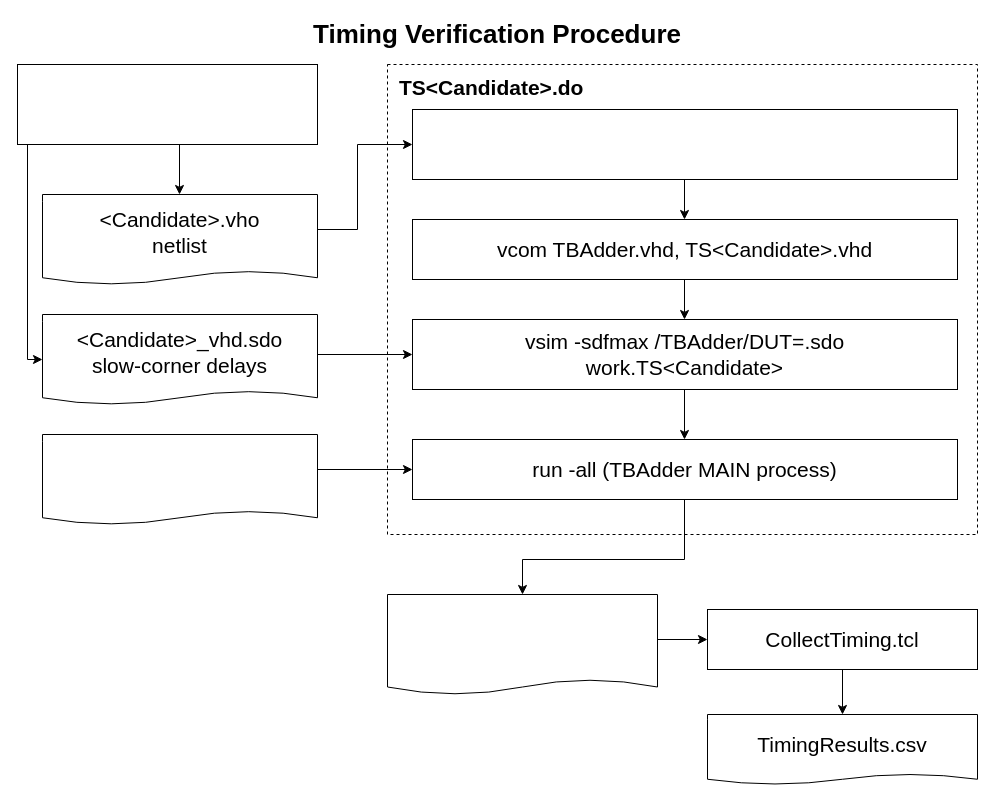
Some shapes in this 995 by 802 pixel diagram are drawn without their labels. Here are the shapes that lost their labels. From the top down, the centre of each, then its label:
(x=167, y=104): Quartus fit SynthAll.tcl, Adder.sdc
(x=685, y=144): vlib <Candidate> vcom .vho into <Candidate>
(x=180, y=479): Adder00.tvs or AdderRandom.tvs
(x=522, y=644): TS<Candidate>.txt delays, worst case
